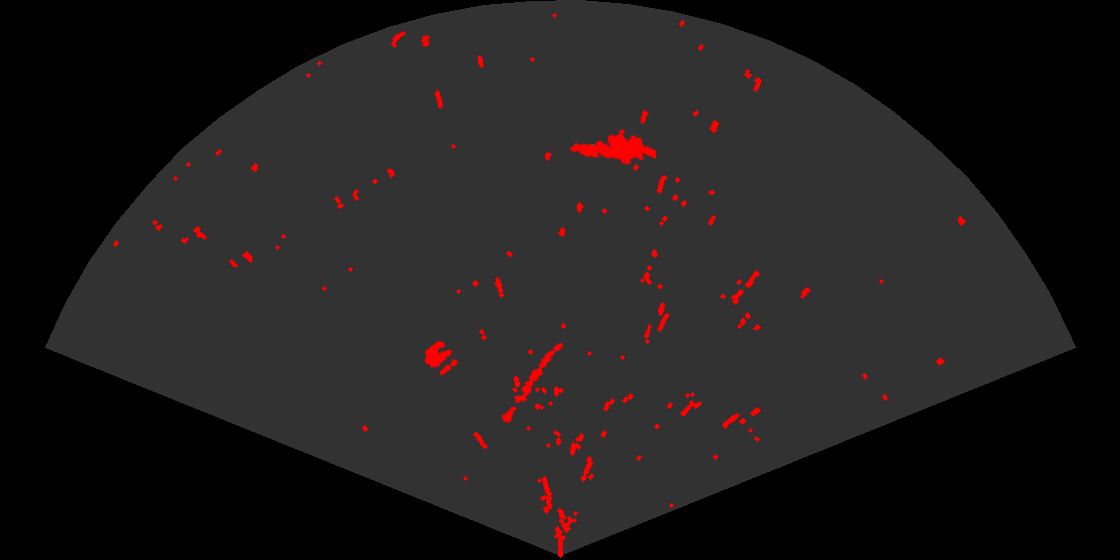ball: (423, 339, 459, 377)
chain: (500, 341, 565, 425)
frogman: (568, 127, 656, 167)
